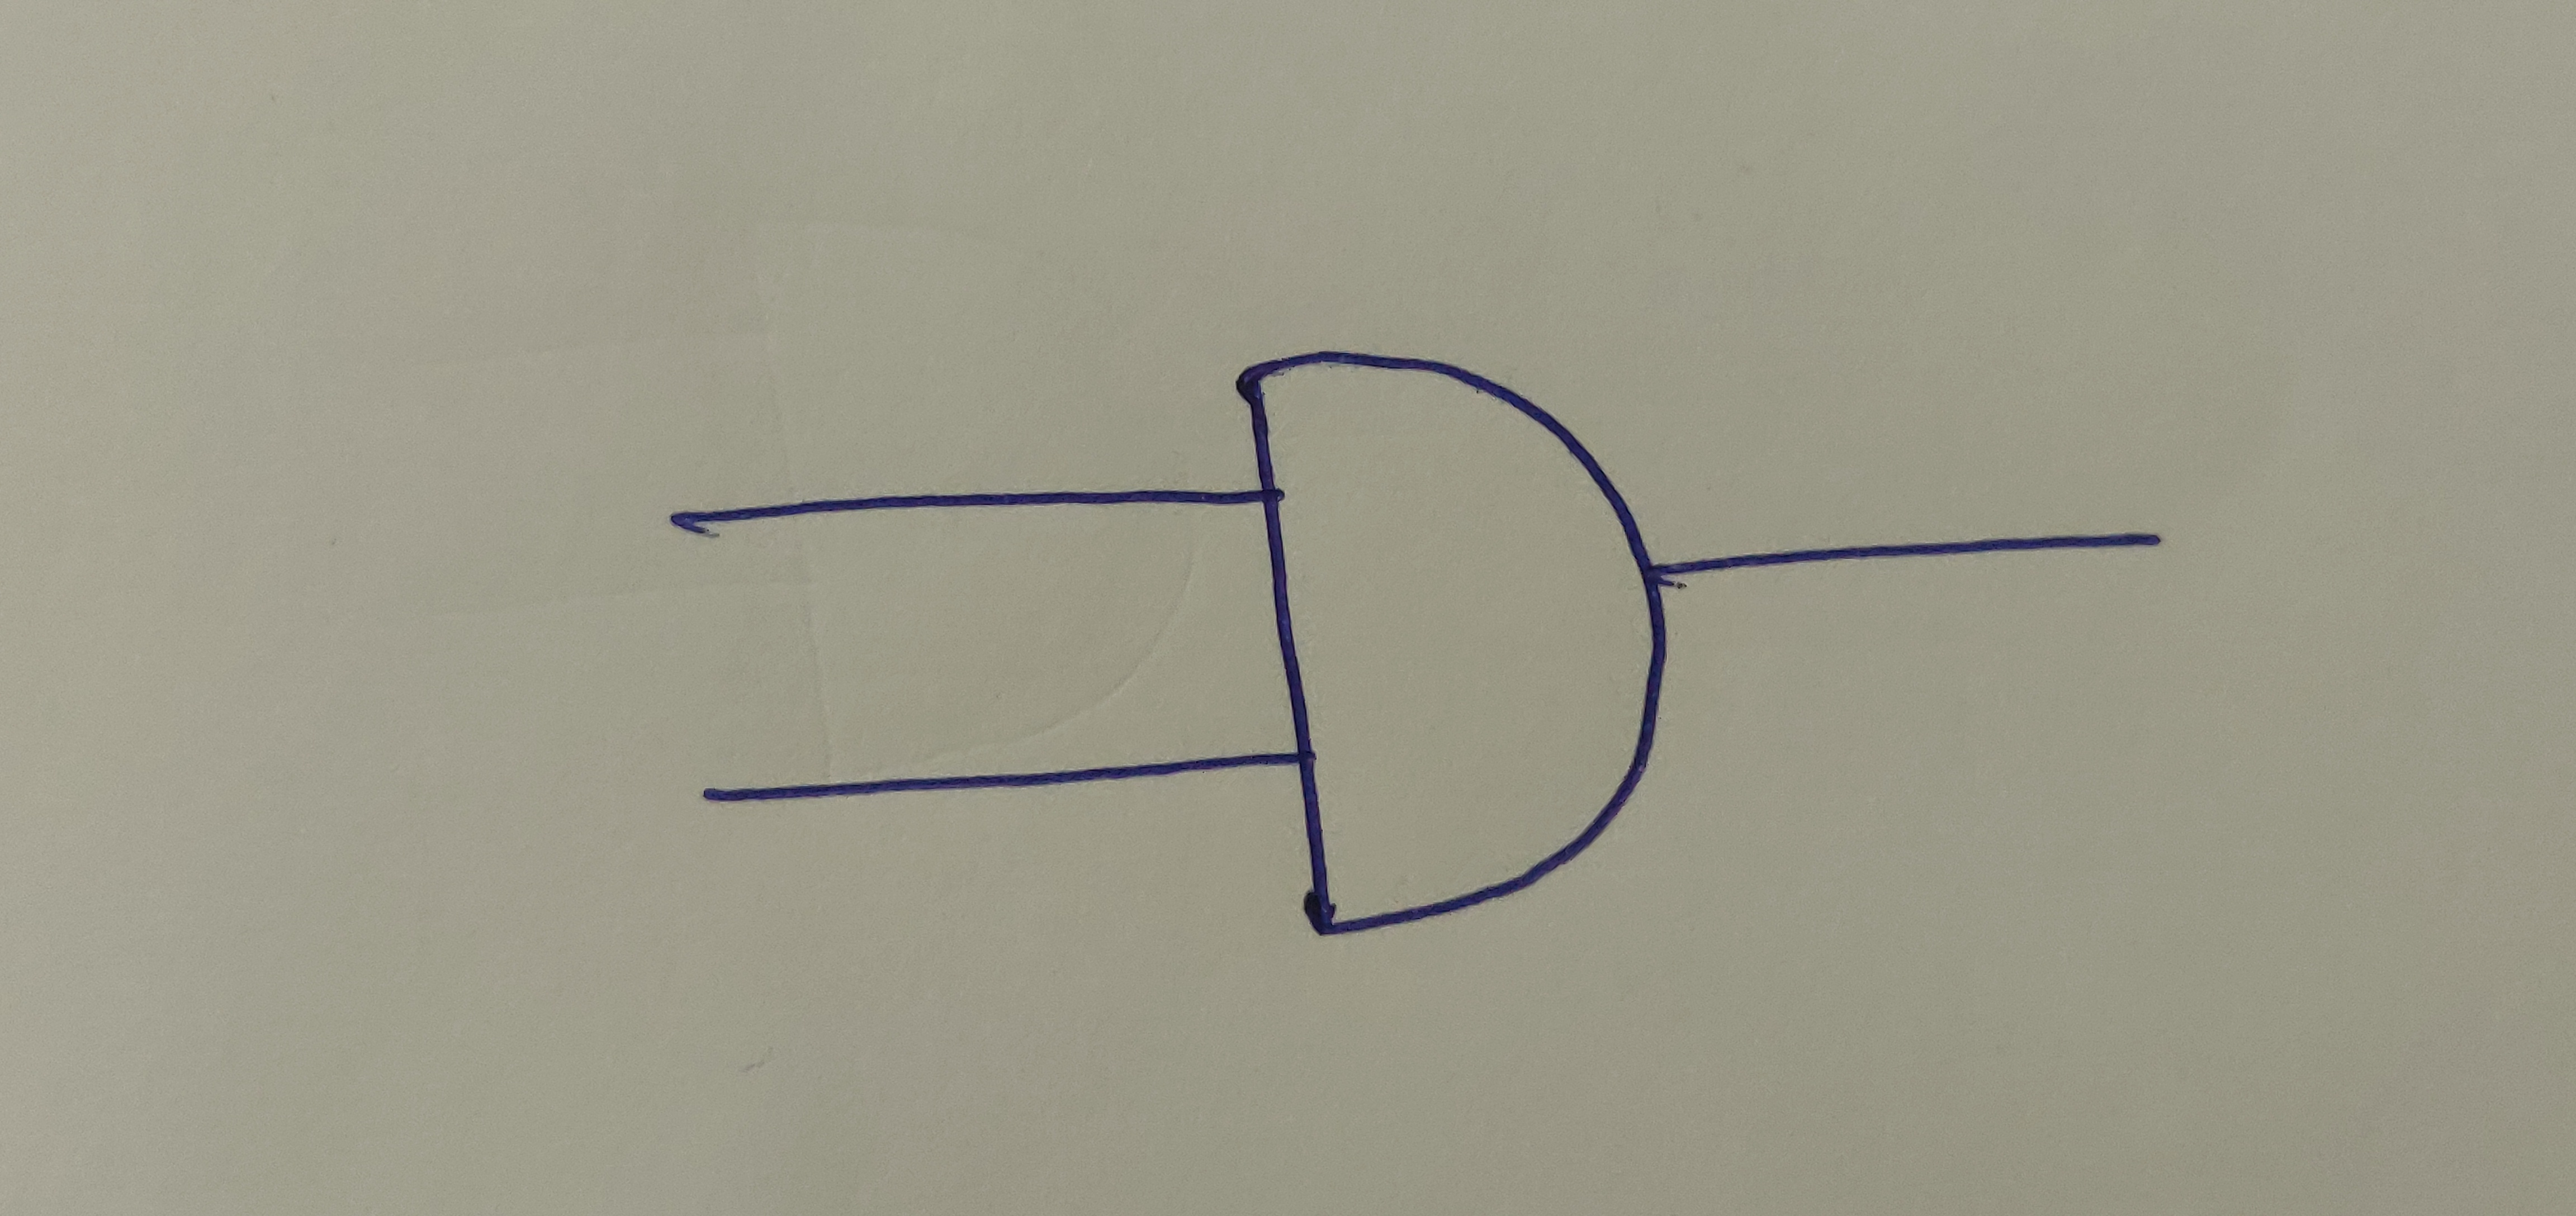and: (1240, 353, 1674, 933)
